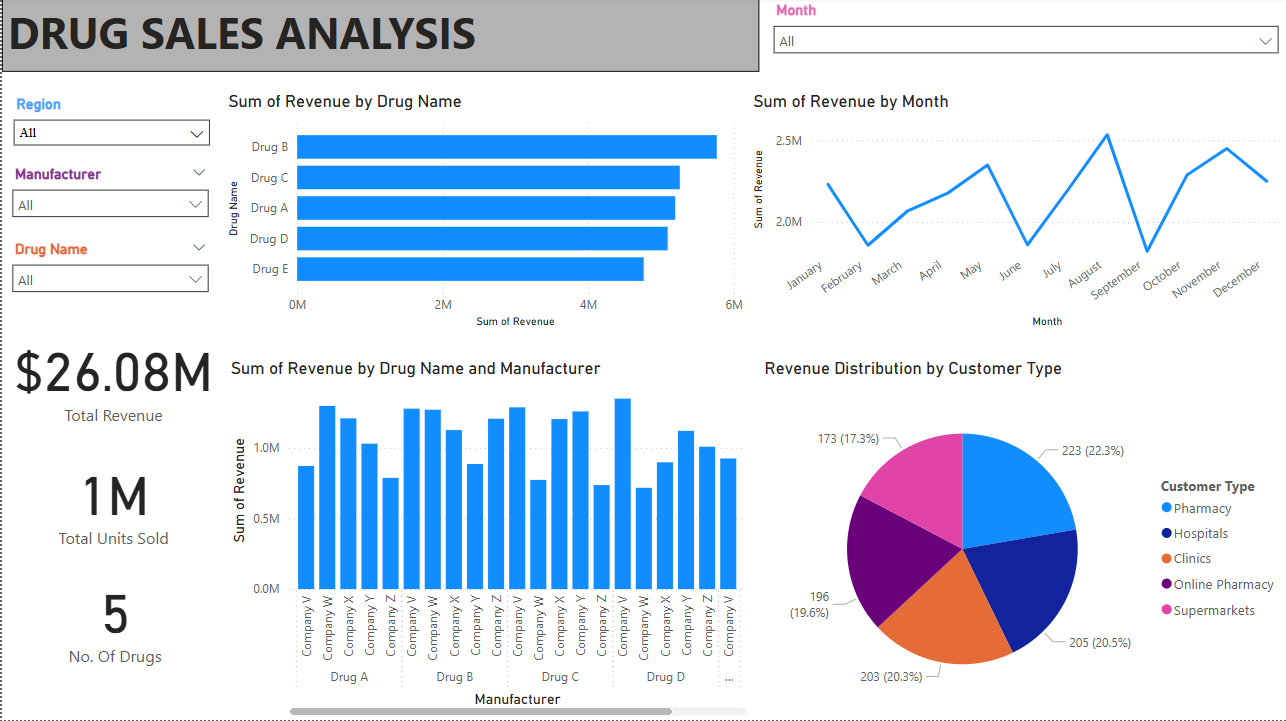

The dashboard page shown, as its layout file describes it:
{"tool":"powerbi","page":{"name":"Page 1","canvas":[1280,720],"ordinal":0},"visuals":[{"type":"card","fields":{"Values":["Sum(Cleaned_Pharmaceutical_Drug_Sales.Revenue)"]},"box":[0,318.5,222.7,118.2],"z":0},{"type":"card","fields":{"Values":["Sum(Cleaned_Pharmaceutical_Drug_Sales.Units Sold)"]},"box":[0,436.6,222.7,126.9],"z":1000},{"type":"card","fields":{"Values":["Count(Cleaned_Pharmaceutical_Drug_Sales.Drug Name)"]},"box":[1.2,563.5,222.7,108.2],"z":2000},{"type":"barChart","fields":{"Category":["Cleaned_Pharmaceutical_Drug_Sales.Drug Name"],"Y":["Sum(Cleaned_Pharmaceutical_Drug_Sales.Revenue)"]},"box":[220.2,93.3,522.5,241.3],"z":3000},{"type":"lineChart","fields":{"Y":["Sum(Cleaned_Pharmaceutical_Drug_Sales.Revenue)"],"Category":["Cleaned_Pharmaceutical_Drug_Sales.Sale Date.Variation.Date Hierarchy.Month"]},"box":[742.6,93.3,537.4,241.3],"z":4000},{"type":"columnChart","fields":{"Category":["Cleaned_Pharmaceutical_Drug_Sales.Drug Name","Cleaned_Pharmaceutical_Drug_Sales.Manufacturer"],"Y":["Sum(Cleaned_Pharmaceutical_Drug_Sales.Revenue)"]},"box":[222.7,359.5,522.5,360.7],"z":5000},{"type":"pieChart","title":"Revenue Distribution by Customer Type","fields":{"Category":["Cleaned_Pharmaceutical_Drug_Sales.Customer Type"],"Y":["CountNonNull(Cleaned_Pharmaceutical_Drug_Sales.Customer Type)"]},"box":[753.8,359.5,526.2,360.7],"z":6000},{"type":"slicer","fields":{"Values":["Cleaned_Pharmaceutical_Drug_Sales.Region"]},"box":[1.2,93.3,215.2,69.7],"z":6001},{"type":"slicer","fields":{"Values":["Cleaned_Pharmaceutical_Drug_Sales.Manufacturer"]},"box":[0,163,215.2,61],"z":6002},{"type":"slicer","fields":{"Values":["Cleaned_Pharmaceutical_Drug_Sales.Drug Name"]},"box":[0,237.6,215.2,69.7],"z":6003},{"type":"slicer","fields":{"Values":["Cleaned_Pharmaceutical_Drug_Sales.Sale Date.Variation.Date Hierarchy.Month"]},"box":[757.6,0,522.5,93.3],"z":6004},{"type":"textbox","box":[0,0,753.8,74.6],"z":6005}]}

Visuals, with their boxes in screenshot pixels (x1, y1, x2, y2), scaled from the page's 1280x720 canvas onto the 1286x721 screenshot:
card - Sum(Cleaned_Pharmaceutical_Drug_Sales.Revenue): region(0, 319, 224, 437)
card - Sum(Cleaned_Pharmaceutical_Drug_Sales.Units Sold): region(0, 437, 224, 564)
card - Count(Cleaned_Pharmaceutical_Drug_Sales.Drug Name): region(1, 564, 225, 673)
barChart - Cleaned_Pharmaceutical_Drug_Sales.Drug Name x Sum(Cleaned_Pharmaceutical_Drug_Sales.Revenue): region(221, 93, 746, 335)
lineChart - Sum(Cleaned_Pharmaceutical_Drug_Sales.Revenue) x Cleaned_Pharmaceutical_Drug_Sales.Sale Date.Variation.Date Hierarchy.Month: region(746, 93, 1285, 335)
columnChart - Cleaned_Pharmaceutical_Drug_Sales.Drug Name x Cleaned_Pharmaceutical_Drug_Sales.Manufacturer: region(224, 360, 749, 720)
"Revenue Distribution by Customer Type" pieChart: region(757, 360, 1285, 720)
slicer - Cleaned_Pharmaceutical_Drug_Sales.Region: region(1, 93, 217, 163)
slicer - Cleaned_Pharmaceutical_Drug_Sales.Manufacturer: region(0, 163, 216, 224)
slicer - Cleaned_Pharmaceutical_Drug_Sales.Drug Name: region(0, 238, 216, 308)
slicer - Cleaned_Pharmaceutical_Drug_Sales.Sale Date.Variation.Date Hierarchy.Month: region(761, 0, 1285, 93)
textbox: region(0, 0, 757, 75)
